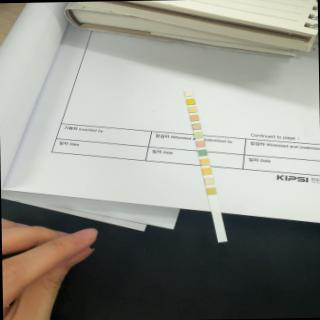mark: (190, 114, 199, 121), (200, 158, 209, 165), (204, 177, 213, 184), (207, 187, 216, 194), (186, 98, 194, 105), (198, 149, 206, 156), (184, 90, 193, 96), (202, 168, 211, 174), (188, 106, 196, 112), (192, 124, 200, 130), (194, 132, 202, 138), (196, 140, 204, 146)
